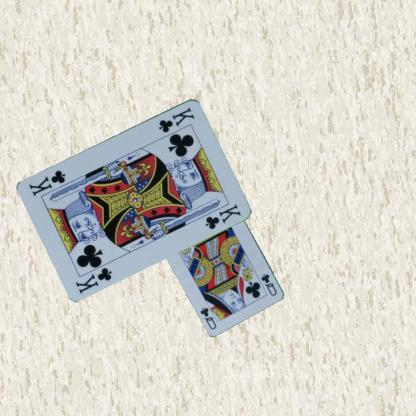Kc: (73, 264, 113, 295), (156, 104, 196, 133)
Qc: (259, 272, 278, 297)
